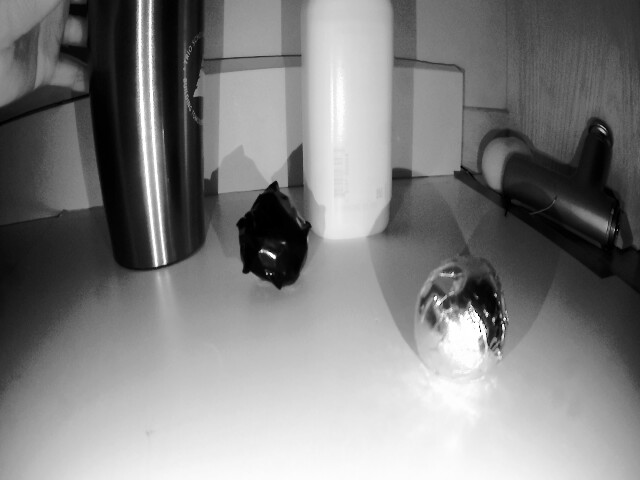black: (403, 257, 512, 380)
silver: (226, 190, 312, 284)
